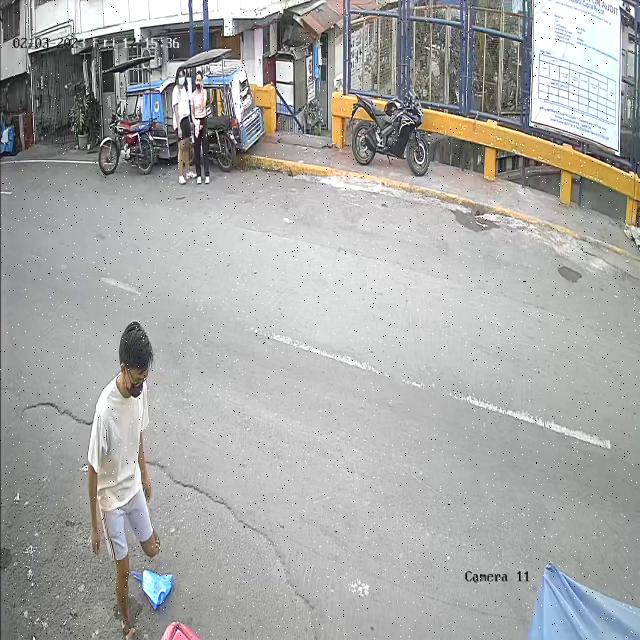garbage_dumping: (133, 560, 173, 612)
